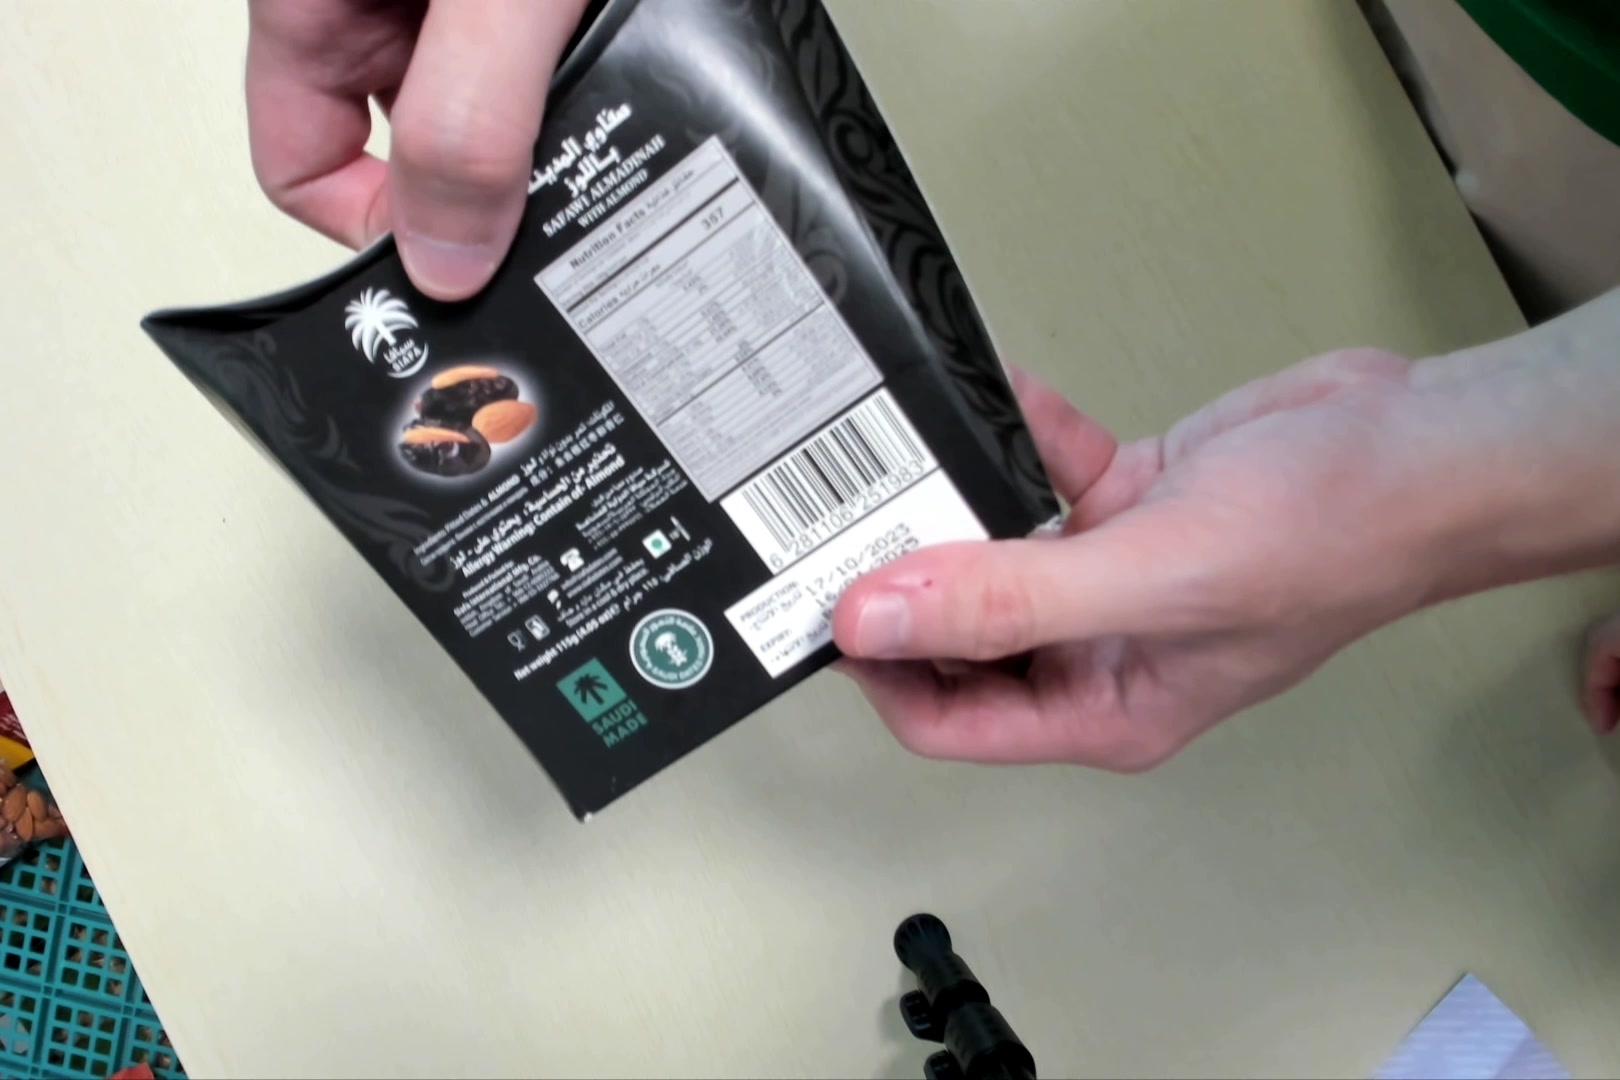DriedFood_100-199g_NonHalal_NonHealthy: (137, 1, 1056, 840)
